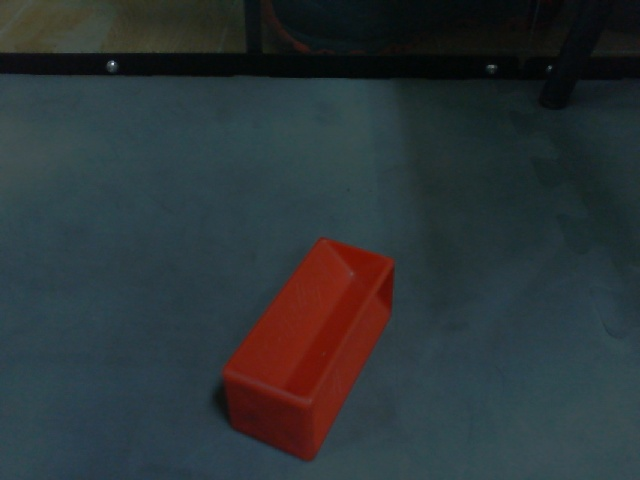RedSample: (218, 234, 397, 465)
